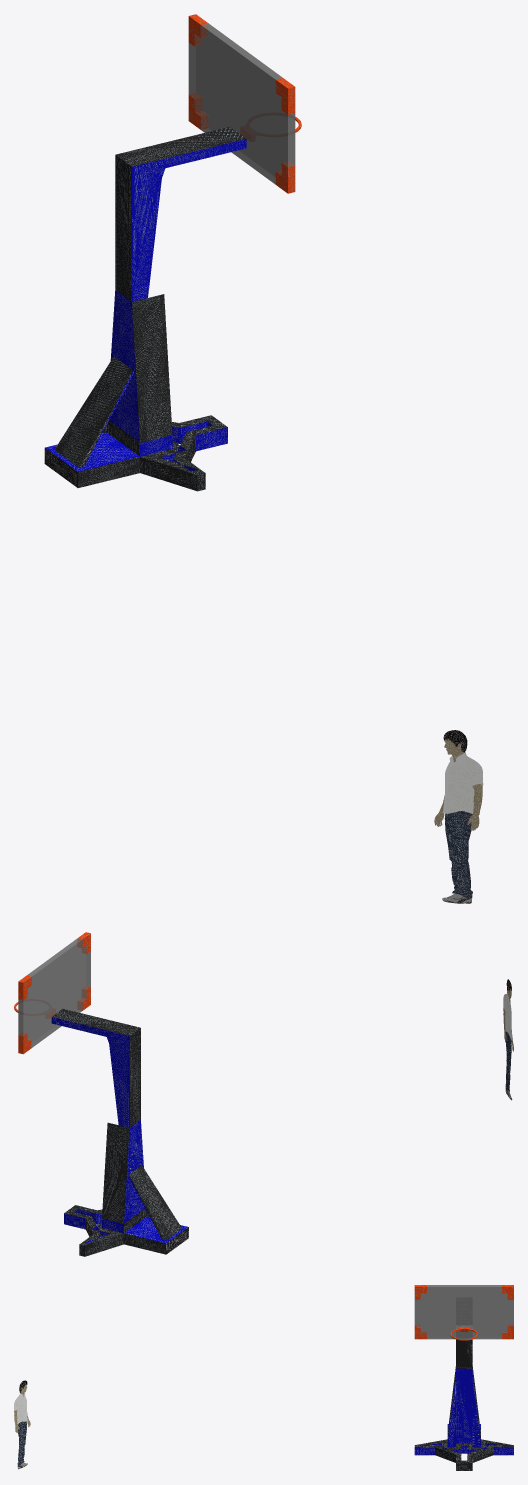
File: Modelo3D.dae
3 renders of one model, top to bottom at view 1: azimuth 30°, elevation 25°; view 2: azimuth 150°, elevation 25°; view 3: azimuth 270°, elevation 25°, orthographic. The views are drawn at different scales.
Parts seen in each view (by area): view 1: SketchUp (×7), Sang (×2); view 2: SketchUp (×7); view 3: SketchUp (×6), Sang (×2).
Part boxes in pixels (left/top/right/bottom): SketchUp (×7): left=44, top=23, right=295, bottom=491; Sang (×2): left=444, top=756, right=483, bottom=897; SketchUp (×7): left=18, top=938, right=188, bottom=1256; SketchUp (×6): left=414, top=1285, right=513, bottom=1470; Sang (×2): left=14, top=1395, right=26, bottom=1466.
Size of the model in its own units: 124 by 362 by 189.
